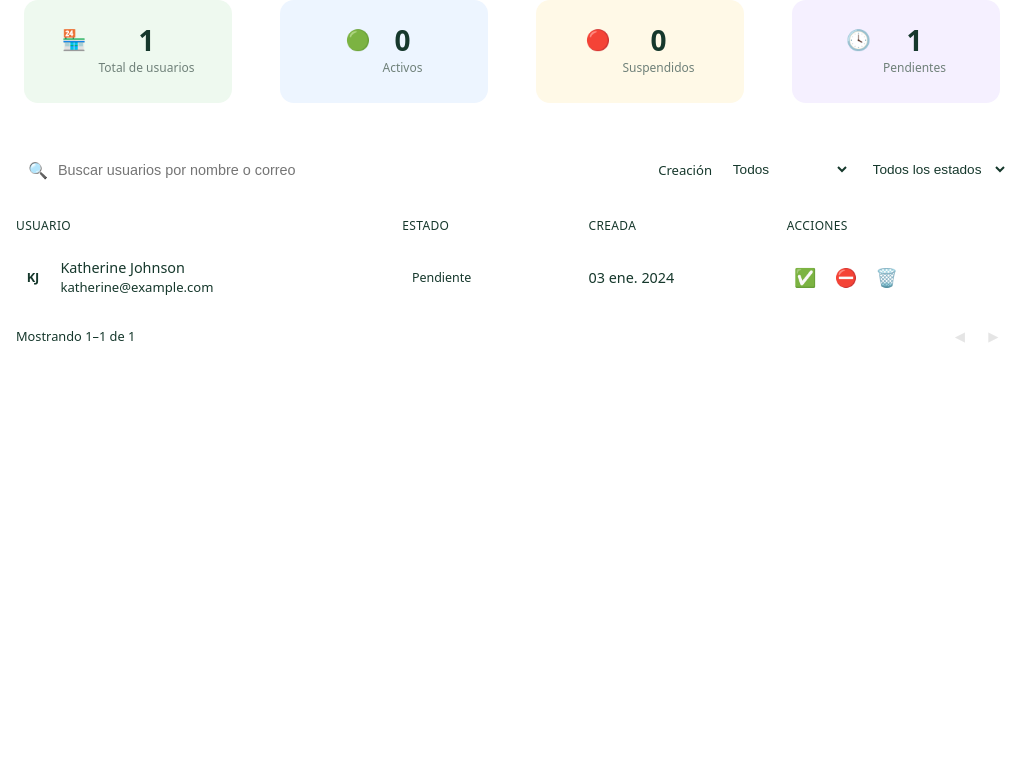
Test: panel de cuentas › presenta error administrativo sin actualizar optimistamente una cuenta
This screenshot has width=1024, height=768.
Click the button titled "Activar usuario".
click(805, 277)  # box [787,262,824,292]
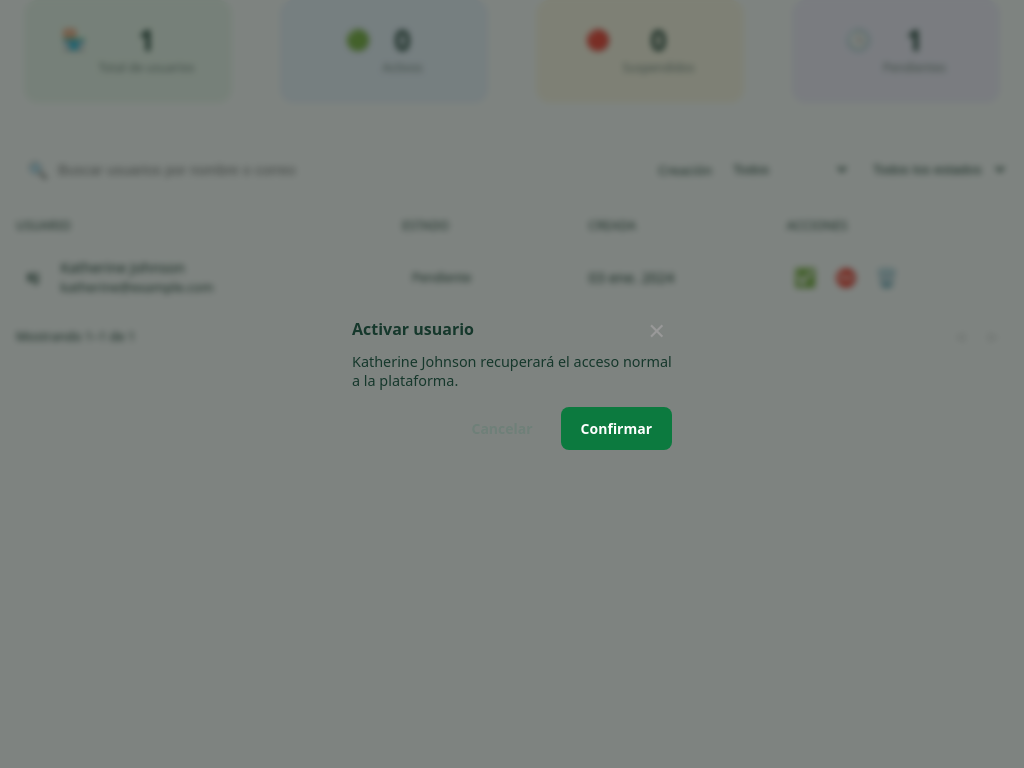
Click the button "Confirmar".
click(616, 429)  # box [561,407,672,450]
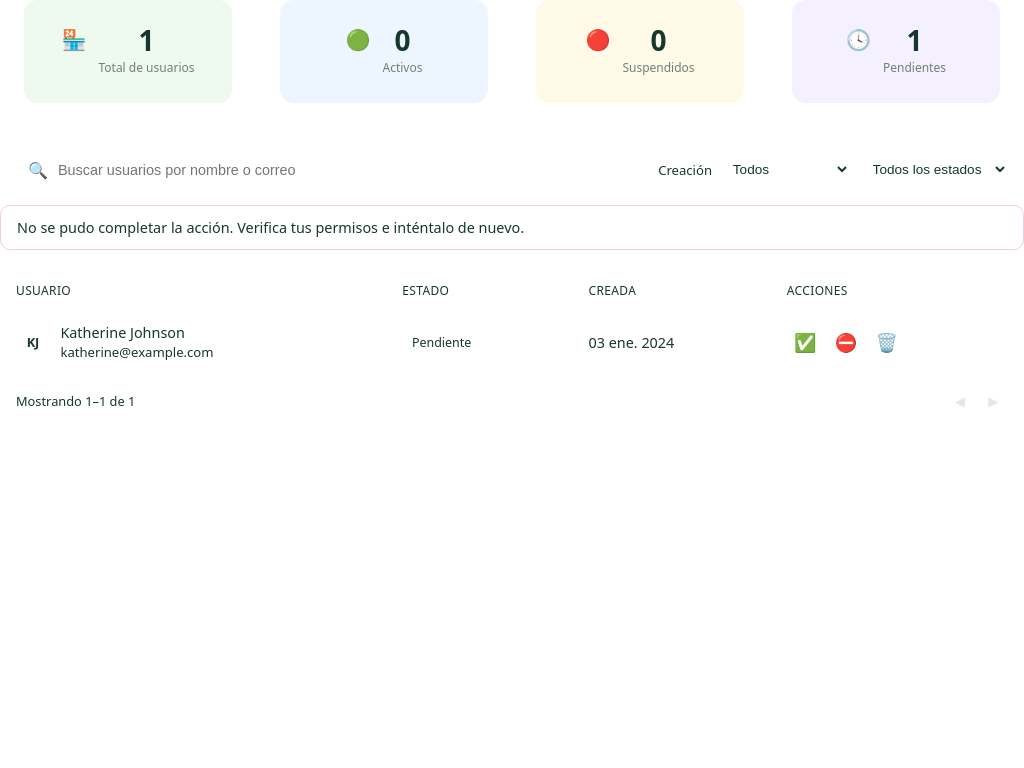
Expected: the text "Pendiente" is shown, [412,334,471,351]
Expected: the message "No se pudo completar la acción. Verifica tus permisos e inténtalo de nuevo." is shown, [0,205,1023,250]
